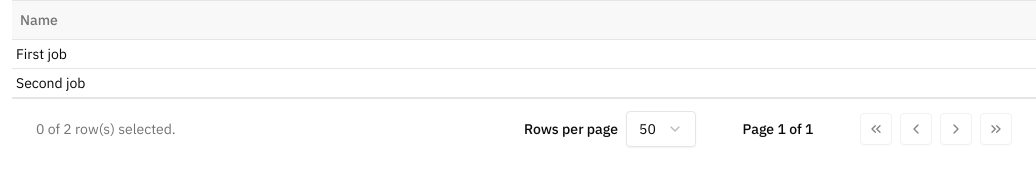
Test: DataTable inline row expansion › expands a row inline on click and collapses it on a second click
Expected: the text "Expanded First job" is not shown
Click the text "First job": (524, 54) 12,40 -> 1035,69
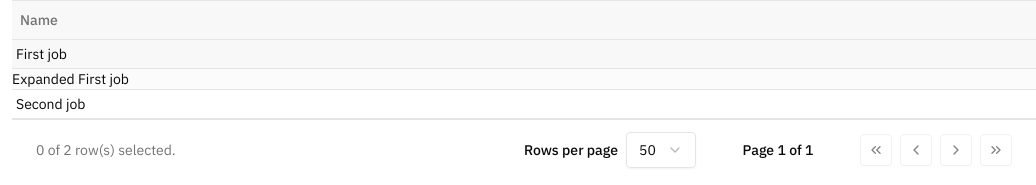
Now the text "Expanded First job" is shown, box 12,70 -> 129,88
Click the text "First job": (524, 54) 12,40 -> 1035,69
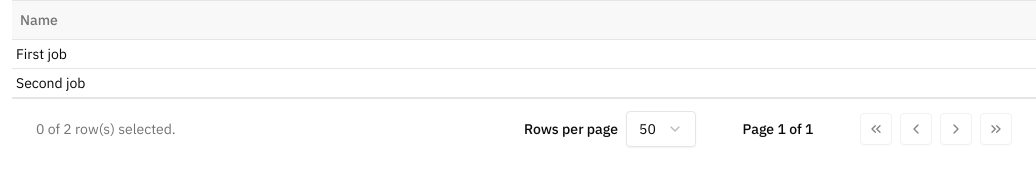
Now the text "Expanded First job" is gone
